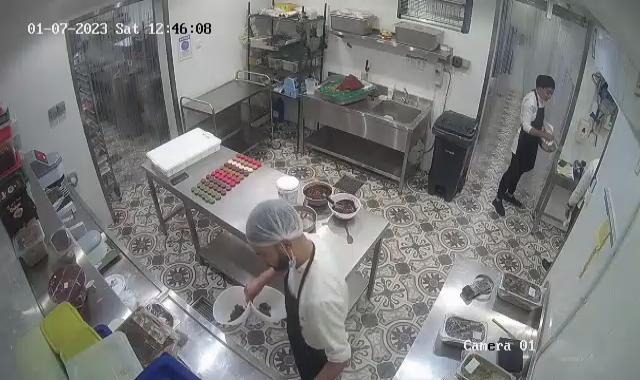hairnet: (243, 196, 306, 255)
no_hairnet: (534, 72, 556, 98)
